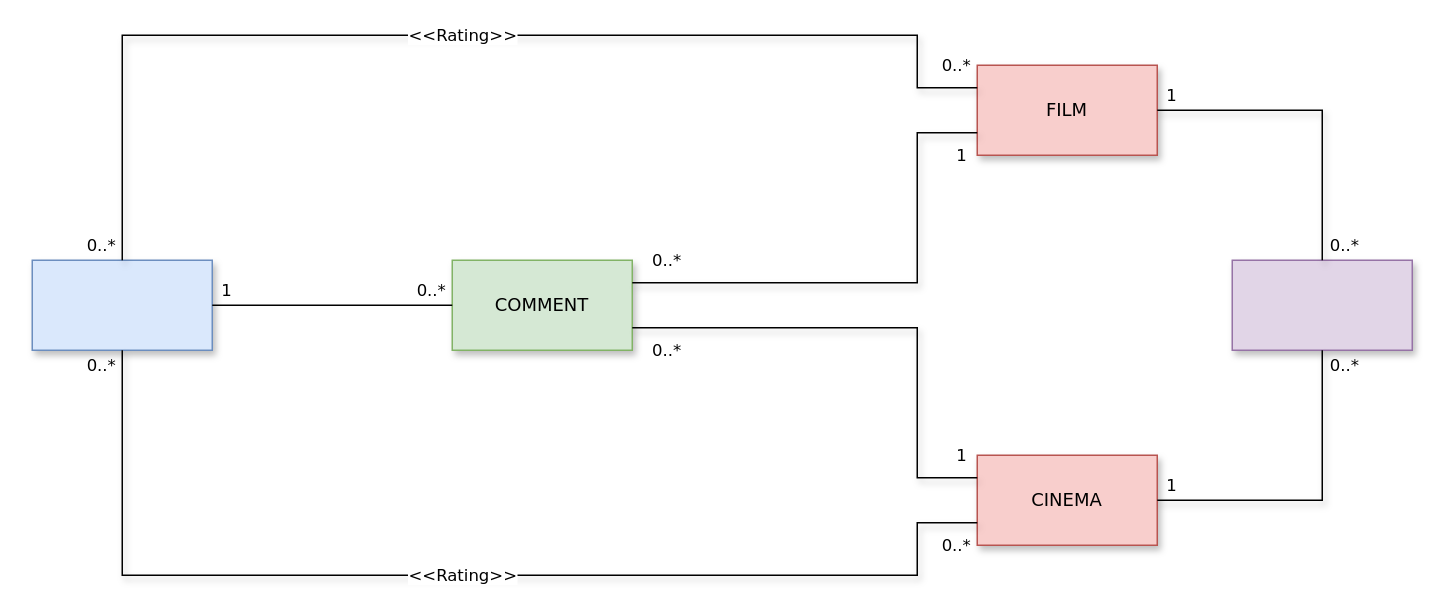
The diagram is 1448 pixels wide and 614 high, and some of its shapes have lost their labels. The shapes that lost their labels are listed below. From the top down, each one's centre as x and y in pixels, then its label:
At point 123,307: "USER".
At point 1323,307: "PROJECTION".
